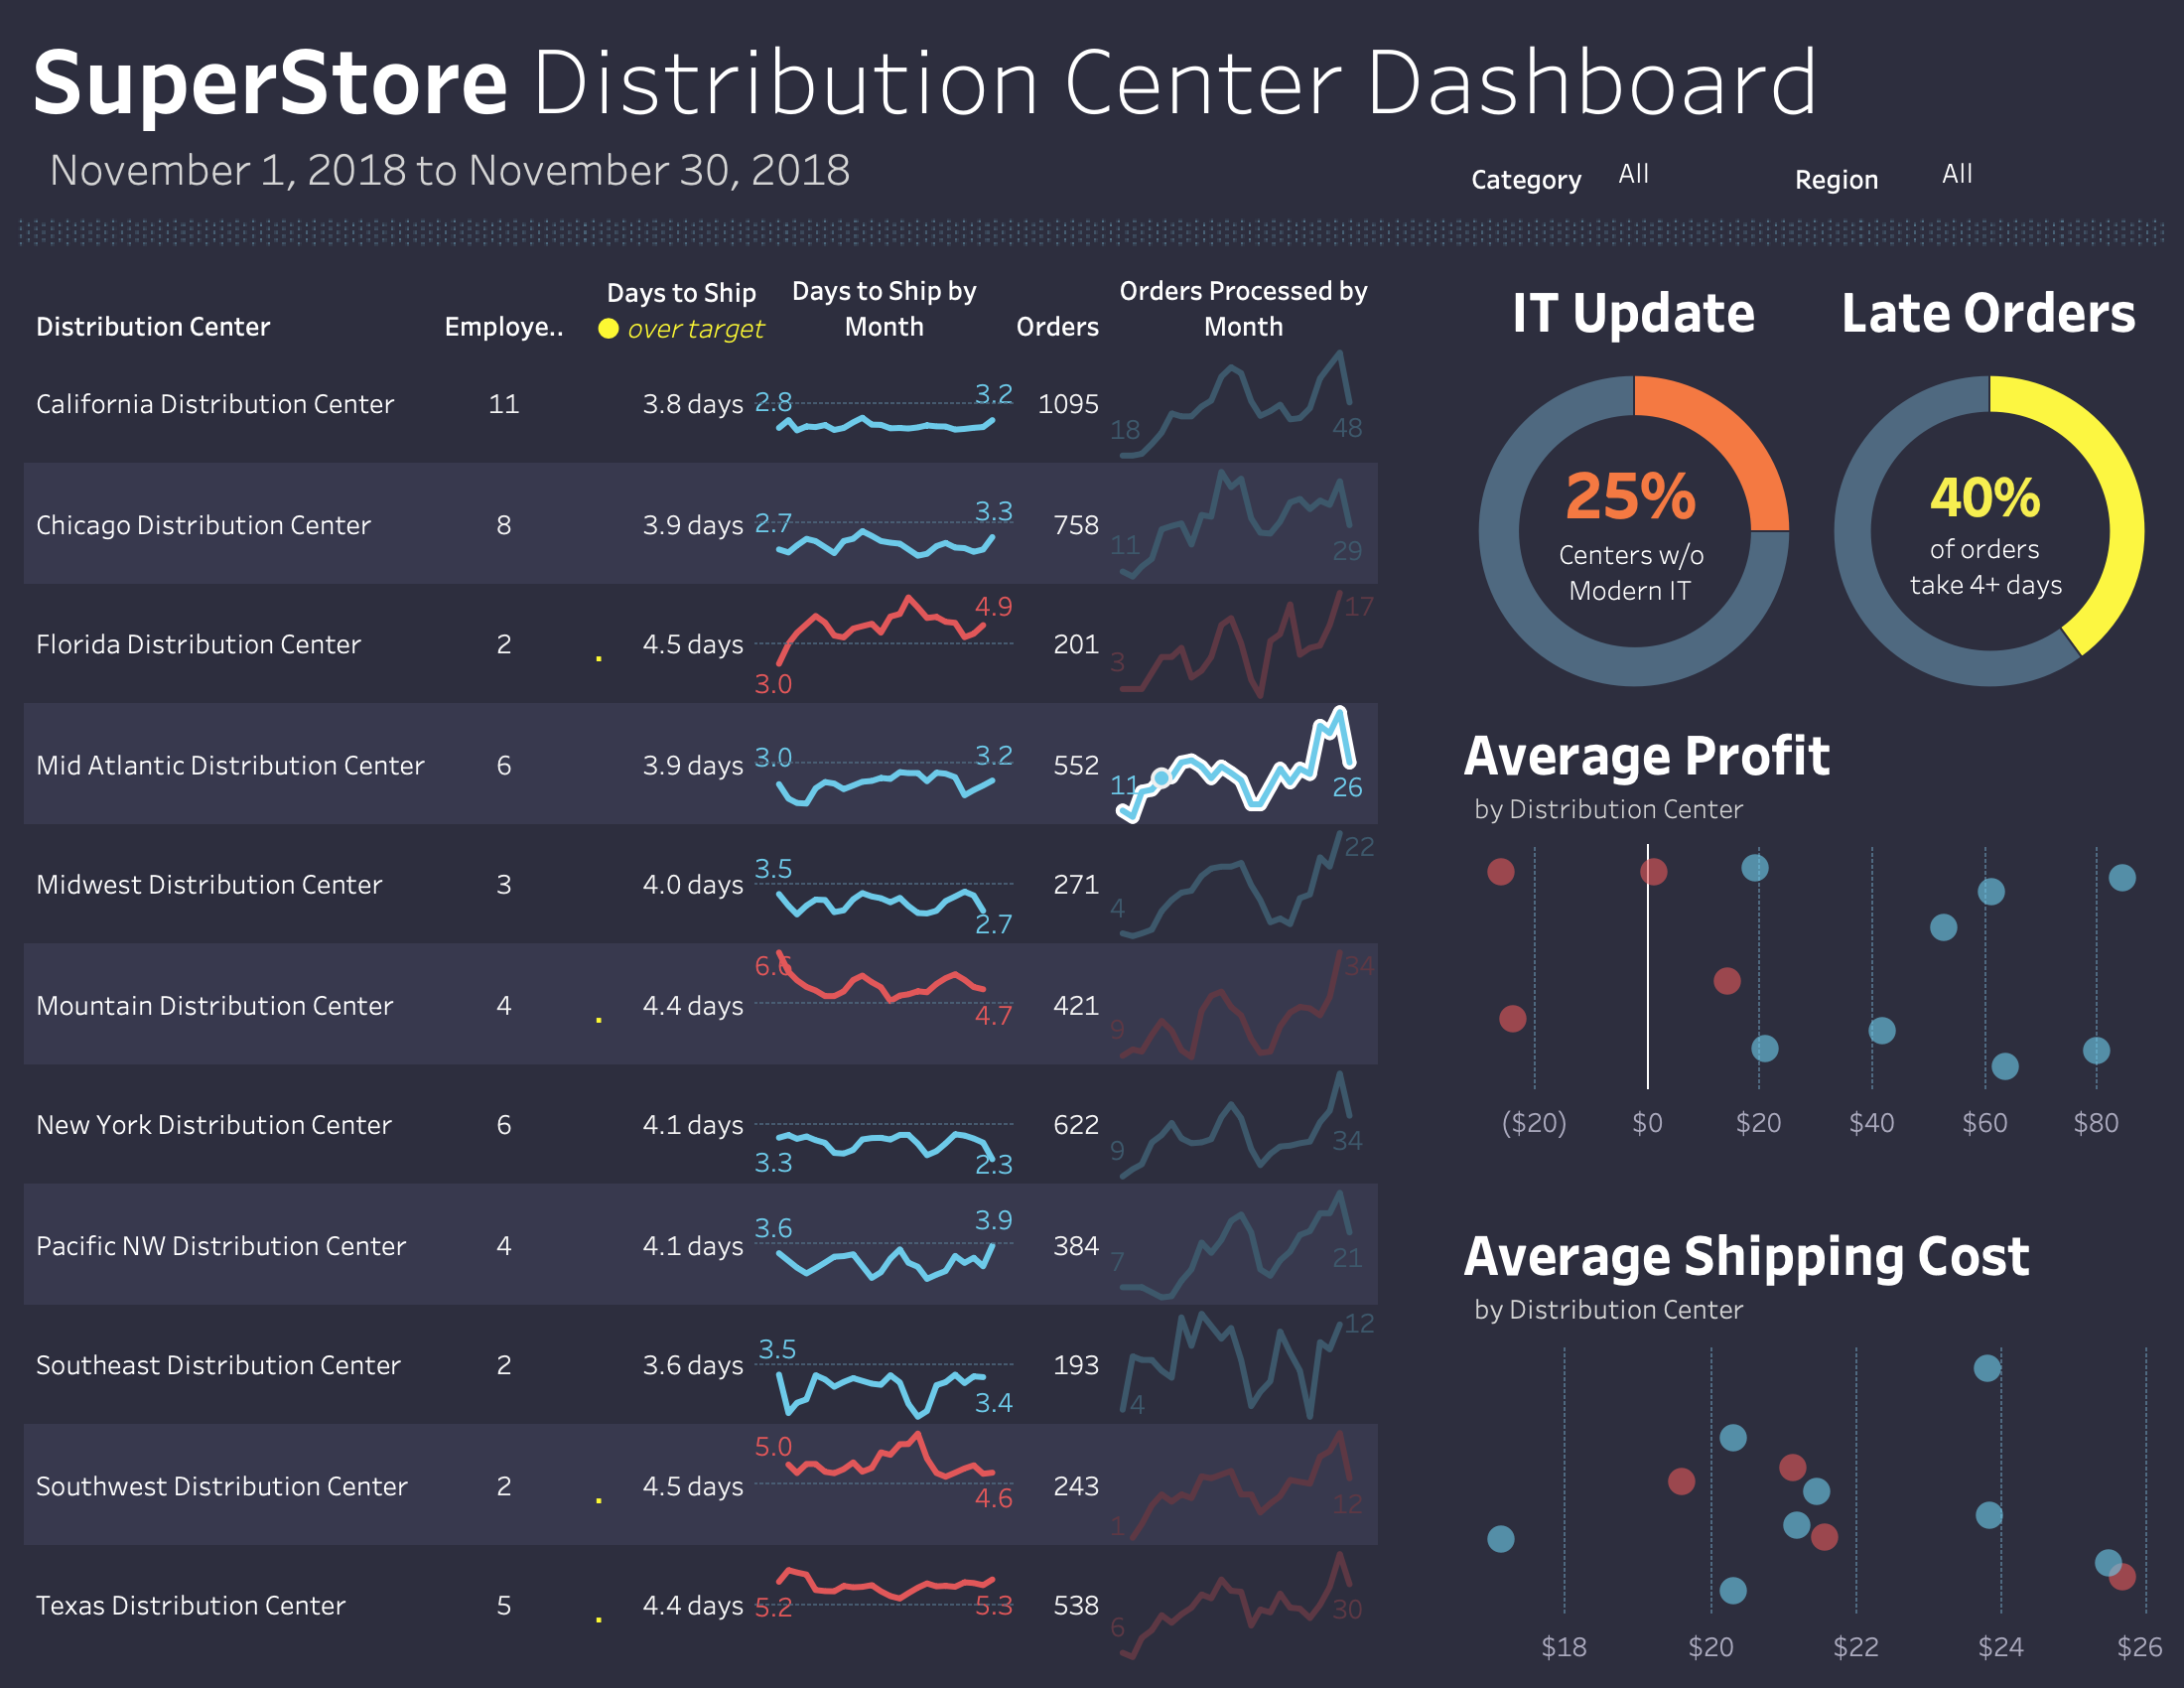

The page's visual inventory and layout, read from the dashboard file:
{"tool":"tableau","page":{"name":"4 Bottom Up Dashboard","canvas":[1100,850],"ordinal":3},"visuals":[{"type":"text","box":[8,8,1084,120]},{"type":"filter","title":"Distribution Center Details1 (2)","param":"[Sample - Superstore].[none:Category:nk]","box":[741,78,164,24]},{"type":"filter","title":"Distribution Center Details1 (2)","param":"[Sample - Superstore].[none:Region:nk]","box":[904,78,189,24]},{"type":"image","param":"Image/Border5.png","box":[8,110,1083,16]},{"type":"worksheet","title":"Distribution Center Details1","mark":"Automatic","rows":["Calculation_737112606416109569","Calculation_737112606633160716","Calculation_737112606418759683","Calculation_737112606631477258"],"cols":["Order Date"],"box":[8,128,503,714]},{"type":"worksheet","title":"Distribution Center Details1 (2)","mark":"Automatic","rows":["Calculation_737112606631673867","Calculation_737112606417661954"],"cols":["Order Date"],"box":[511,128,186.9,714]},{"type":"blank","box":[697.9,128,35,714]},{"type":"worksheet","title":"Bad Centers","mark":"Pie","cols":["Calculation_737112606073806848","Calculation_737112606073806848"],"box":[732.9,128,179.5,227]},{"type":"worksheet","title":"Late Orders","mark":"Pie","cols":["Calculation_737112606073806848","Calculation_737112606073806848"],"box":[912.5,128,179.5,227]},{"type":"text","box":[294,135,99,42]},{"type":"worksheet","title":"Profit Distro","mark":"Circle","rows":["Calculation_737112606643990542"],"cols":["Profit"],"box":[732.9,355,359.1,220]},{"type":"blank","box":[732.9,575,359.1,32]},{"type":"worksheet","title":"Shpping Distro","mark":"Circle","rows":["Calculation_737112606643990542"],"cols":["Costs (copy)"],"box":[732.9,607,359.1,235]}]}

Visuals, with their boxes in screenshot pixels (x1, y1, x2, y2), scaled from the page's 1100x850 canvas onto the 2184x1688 screenshot:
text: locate(16, 16, 2168, 254)
"Distribution Center Details1 (2)" filter: locate(1471, 155, 1797, 203)
"Distribution Center Details1 (2)" filter: locate(1795, 155, 2170, 203)
image: locate(16, 218, 2166, 250)
"Distribution Center Details1" worksheet: locate(16, 254, 1015, 1672)
"Distribution Center Details1 (2)" worksheet: locate(1015, 254, 1386, 1672)
blank: locate(1386, 254, 1455, 1672)
"Bad Centers" worksheet (Pie marks): locate(1455, 254, 1812, 705)
"Late Orders" worksheet (Pie marks): locate(1812, 254, 2168, 705)
text: locate(584, 268, 780, 352)
"Profit Distro" worksheet (Circle marks): locate(1455, 705, 2168, 1142)
blank: locate(1455, 1142, 2168, 1205)
"Shpping Distro" worksheet (Circle marks): locate(1455, 1205, 2168, 1672)
